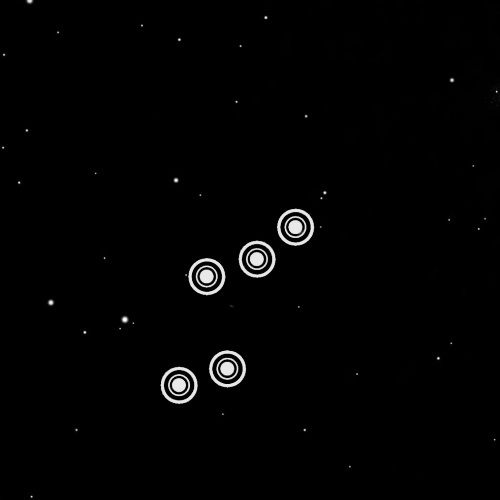lyra: (154, 188, 320, 424)
